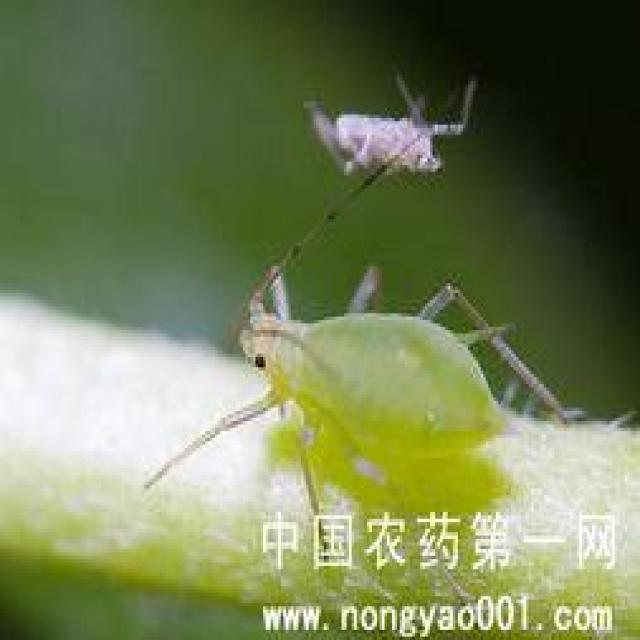Aphids: (160, 183, 593, 513)
